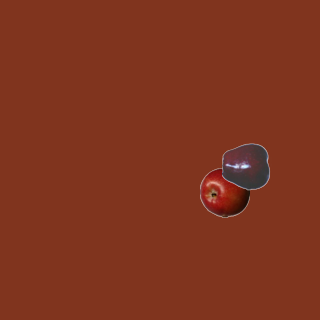Apple Braeburn: (199, 167, 249, 217)
Apple Red Delicious: (221, 141, 271, 191)
